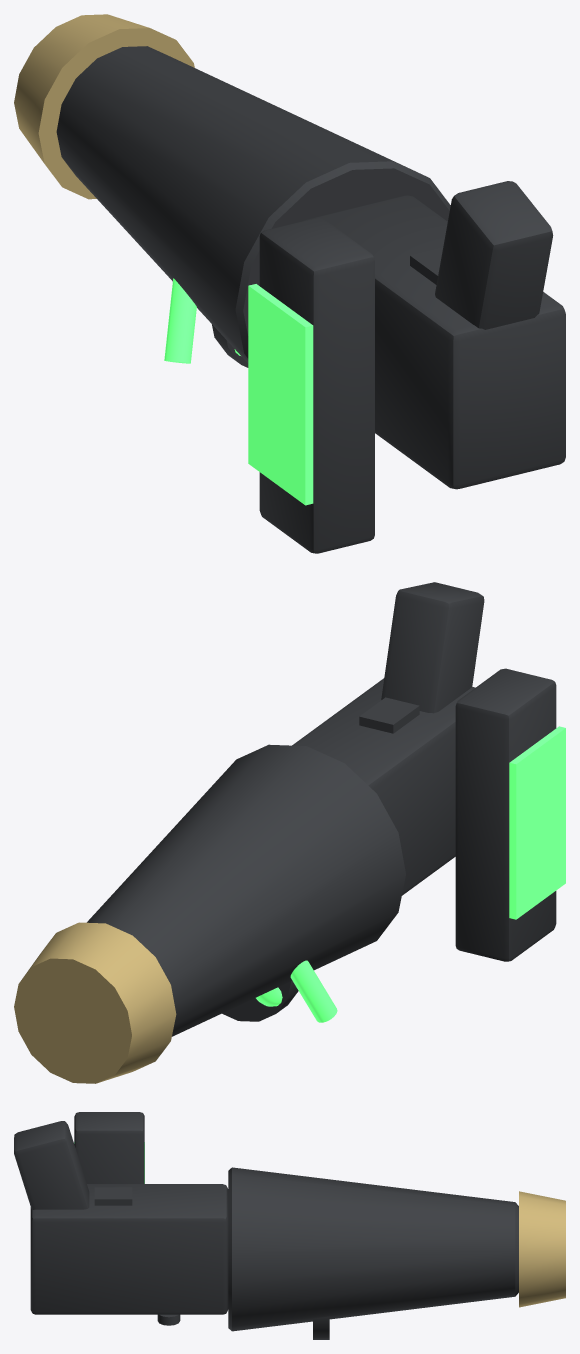
Rendered from green_candles.glb.
3 renders of one model, top to bottom at view 1: azimuth 30°, elevation 25°; view 2: azimuth 150°, elevation 25°; view 3: azimuth 270°, elevation 25°, orthographic. The views are drawn at different scales.
Parts seen in each view (by area): view 1: GreenCandlesBody; view 2: GreenCandlesBody; view 3: GreenCandlesBody.
Part boxes in pixels (<box>): GreenCandlesBody: <box>14,14,565,553</box>; GreenCandlesBody: <box>14,582,565,1083</box>; GreenCandlesBody: <box>14,1112,565,1339</box>.
Size of the model in its own units: 0.2185 by 0.2474 by 0.5884.
